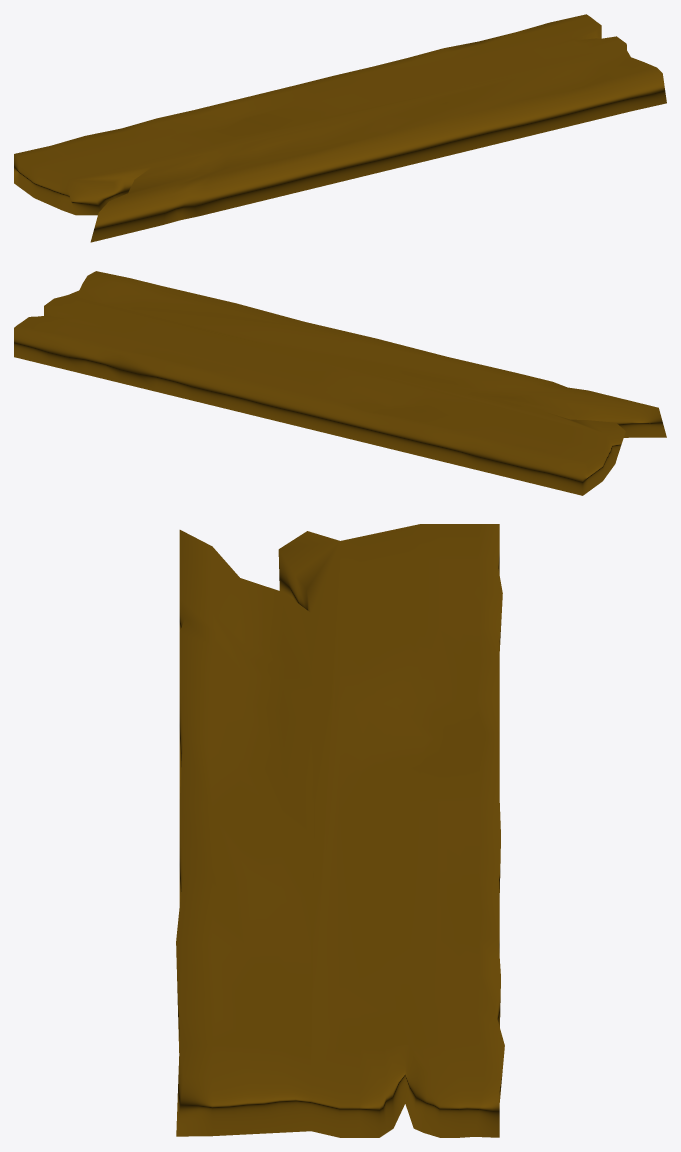
Rendered from plank4.fbx.
3 views of the same model, one above another, from view 1: azimuth 30°, elevation 25°; view 2: azimuth 150°, elevation 25°; view 3: azimuth 270°, elevation 25° (orthographic). The views are drawn at different scales.
Visible parts, largest first — view 1: Cube.004; view 2: Cube.004; view 3: Cube.004.
Part boxes in pixels (x1,y1,x2,y2): Cube.004: (14,14,666,242); Cube.004: (14,271,666,495); Cube.004: (176,524,504,1137).
Bounding box in the file's own units: 827 × 45.69 × 205.
